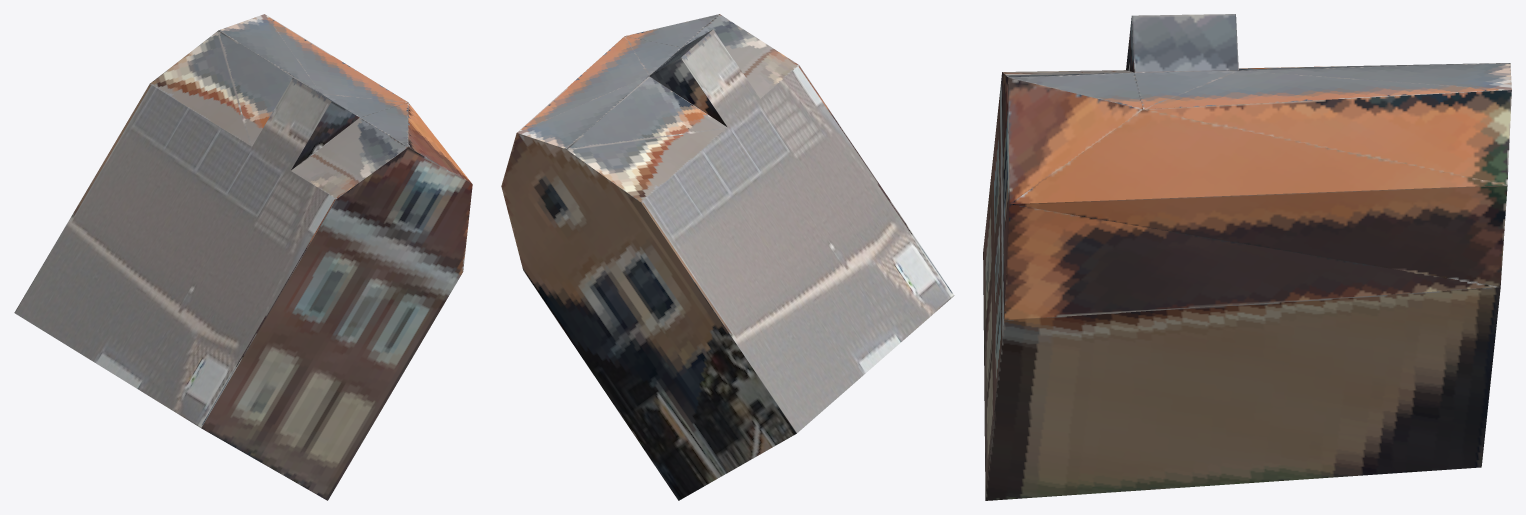
The picture shows the model from 3 angles, left to right: view 1: azimuth 30°, elevation 25°; view 2: azimuth 150°, elevation 25°; view 3: azimuth 270°, elevation 25°; orthographic projection. The views are drawn at different scales.
Parts seen in each view (by area): view 1: BAG_0599100000140595 (×5); view 2: BAG_0599100000140595 (×5); view 3: BAG_0599100000140595 (×4).
Boxes of the visible parts, x1,y1,x2,y2 form: BAG_0599100000140595 (×5): (14,14,472,500); BAG_0599100000140595 (×5): (501,14,954,500); BAG_0599100000140595 (×4): (983,14,1511,500).
Bounding box in the file's own units: 9.88 × 11.08 × 10.14.
7 materials, 7 textured.
